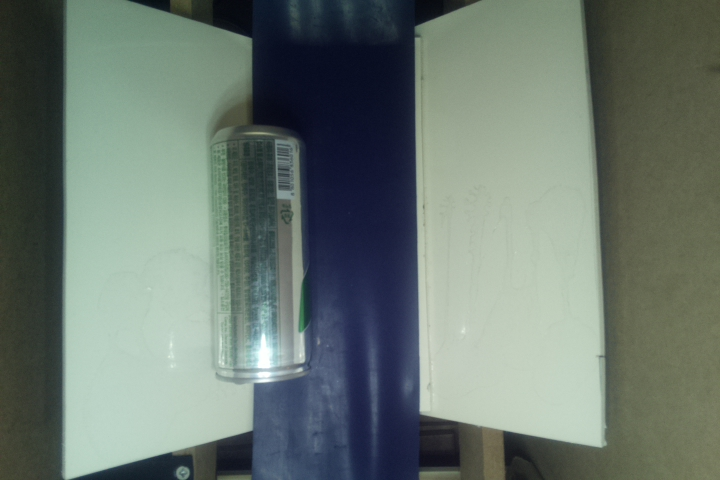can: (208, 125, 311, 386)
